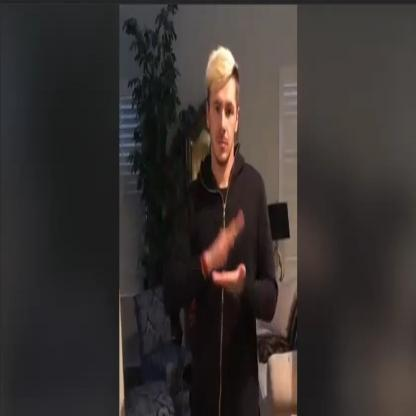NiceToMeetYou: (198, 201, 256, 311)
